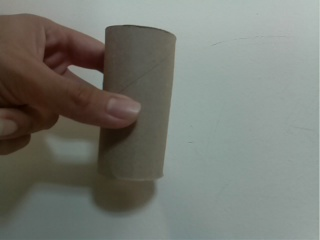rollo papel: (94, 23, 179, 186)
